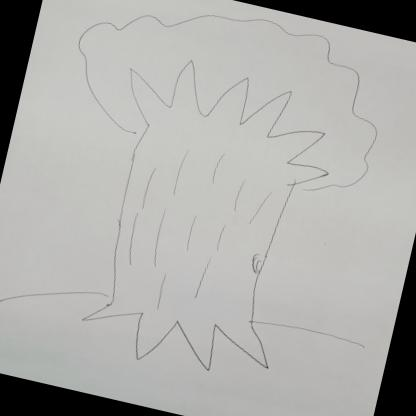branch_sharp: (113, 47, 347, 184)
crown_cloud: (55, 0, 396, 205)
knot: (249, 252, 268, 276)
root_upside: (75, 274, 281, 388)
trunk_bark: (105, 147, 294, 300)
